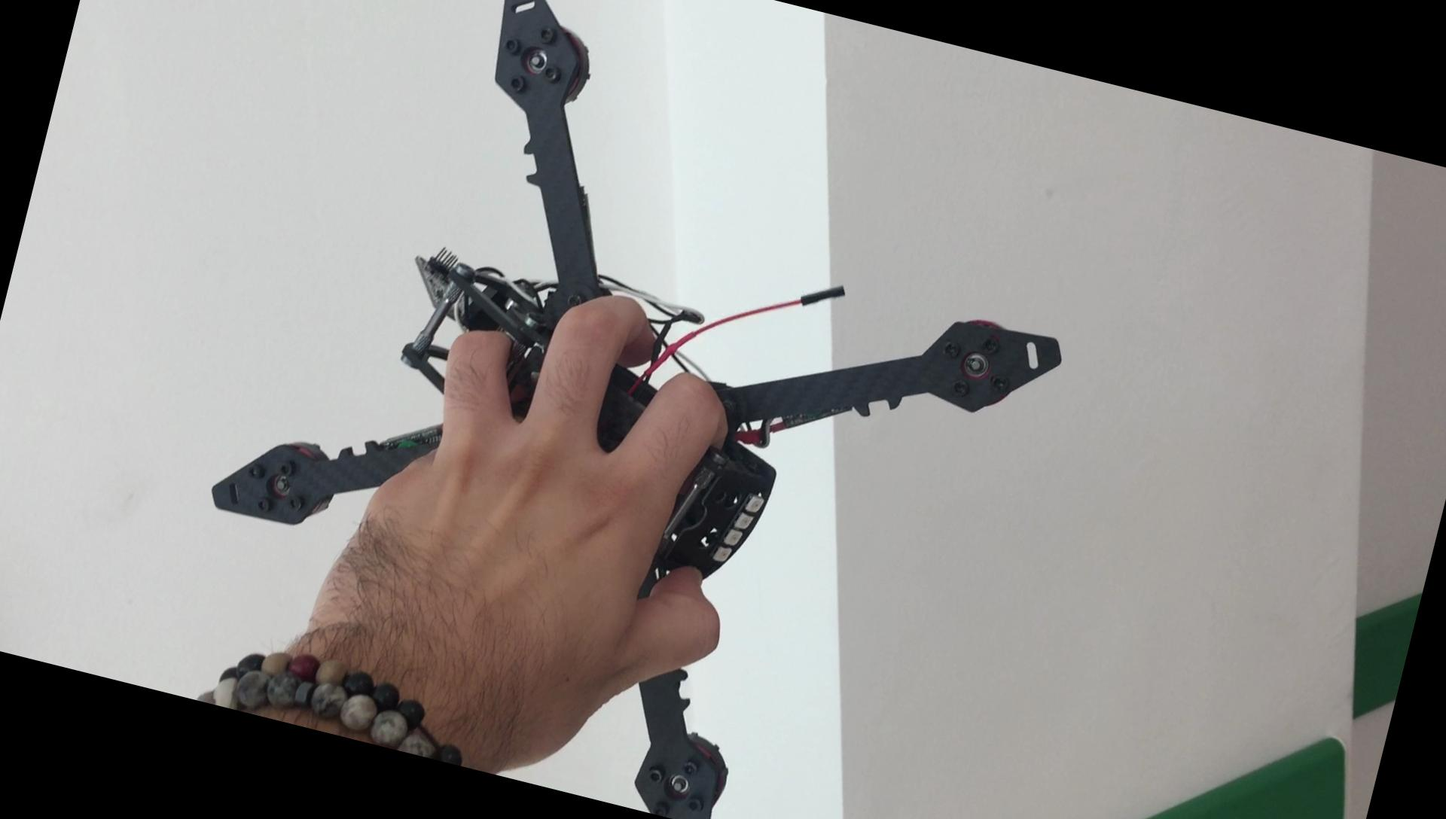drone: (116, 0, 1142, 819)
